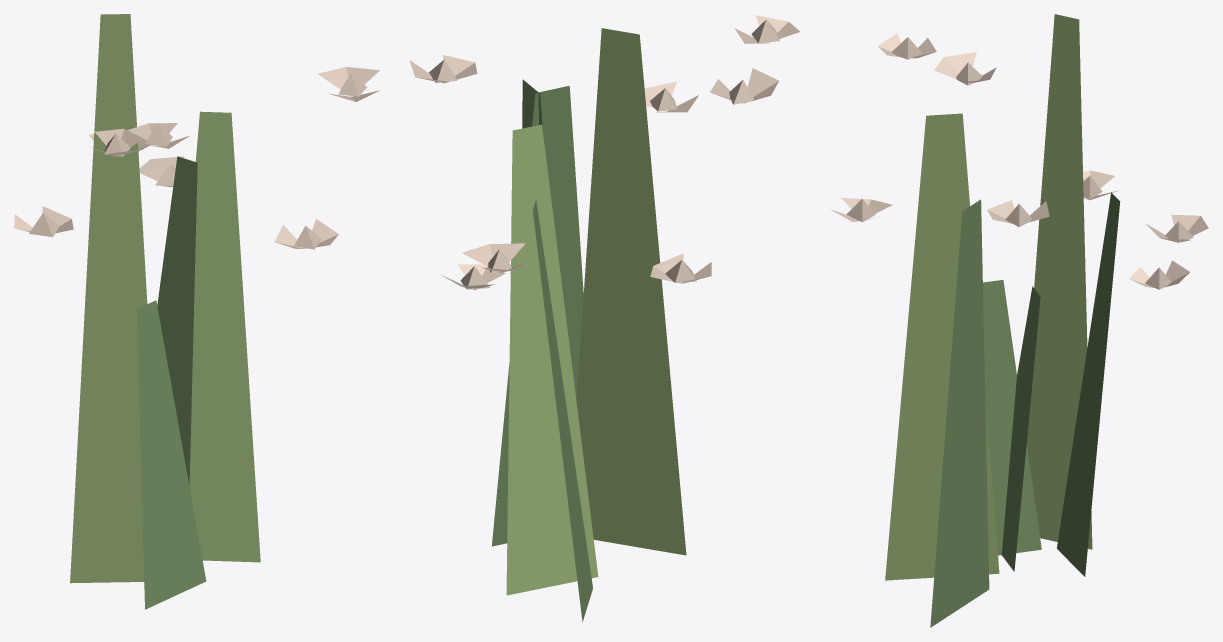
File: nong.mai@flowering__bloom.glb
The picture shows the model from 3 angles, left to right: view 1: azimuth 30°, elevation 25°; view 2: azimuth 150°, elevation 25°; view 3: azimuth 270°, elevation 25°; orthographic projection. The views are drawn at different scales.
Parts seen in each view (by area): view 1: nong.mai@flowering__bloom; view 2: nong.mai@flowering__bloom; view 3: nong.mai@flowering__bloom.
Boxes of the visible parts, box(x1,y1,x2,y2) form: nong.mai@flowering__bloom: box(14, 14, 379, 609); nong.mai@flowering__bloom: box(409, 15, 800, 622); nong.mai@flowering__bloom: box(830, 14, 1208, 627).
Size of the model in its own units: 0.556 by 0.894 by 0.5986.
